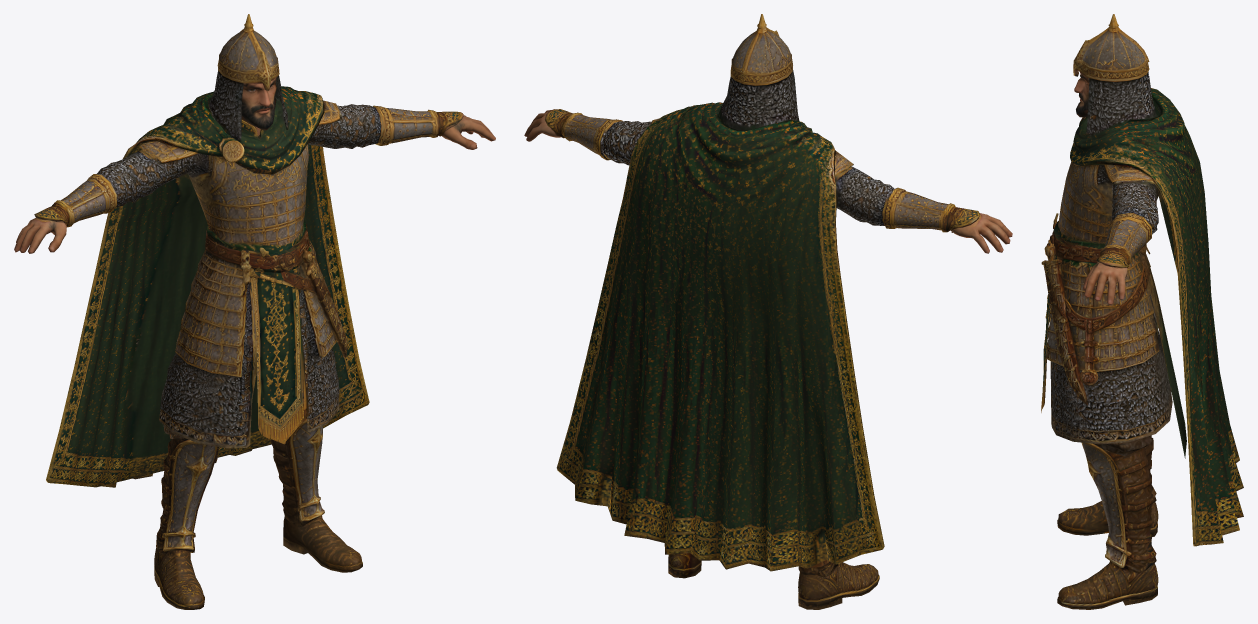
File: islamic+knight+3d+model.fbx
3 views of the same model, side by side, from view 1: azimuth 30°, elevation 25°; view 2: azimuth 150°, elevation 25°; view 3: azimuth 270°, elevation 25° (orthographic). The views are drawn at different scales.
Parts seen in each view (by area): view 1: f6ed1386_00be_4758_b85a_a23e001a8ffc; view 2: f6ed1386_00be_4758_b85a_a23e001a8ffc; view 3: f6ed1386_00be_4758_b85a_a23e001a8ffc.
Part boxes in pixels (bbox=[...]): f6ed1386_00be_4758_b85a_a23e001a8ffc: bbox=[14, 14, 495, 609]; f6ed1386_00be_4758_b85a_a23e001a8ffc: bbox=[524, 14, 1012, 609]; f6ed1386_00be_4758_b85a_a23e001a8ffc: bbox=[1041, 14, 1243, 609].
Size of the model in its own units: 0.8892 by 0.9995 by 0.3335.
1 material, 1 textured.
